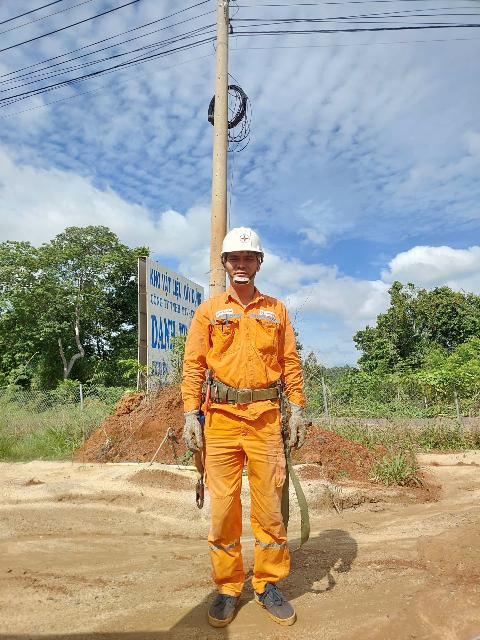gloves: (278, 401, 314, 458), (177, 408, 217, 458)
harness: (190, 364, 297, 413)
helmet: (210, 226, 277, 265)
shoes: (253, 578, 301, 628), (205, 581, 238, 633)
